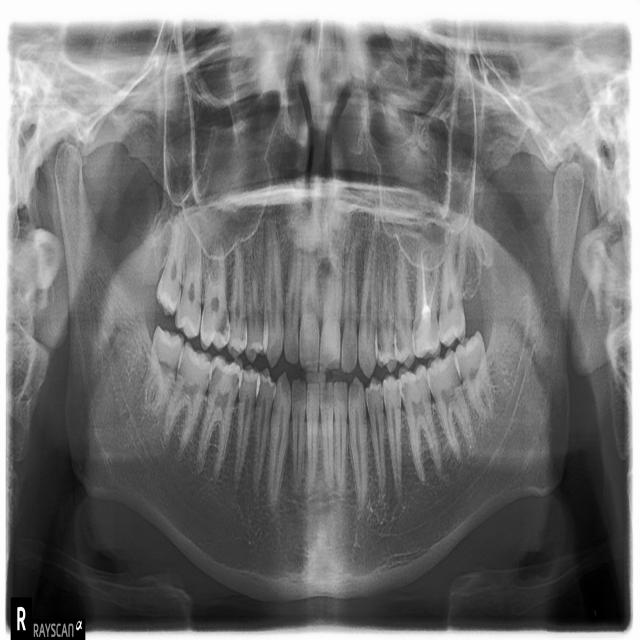mandibula: (53, 138, 584, 604)
